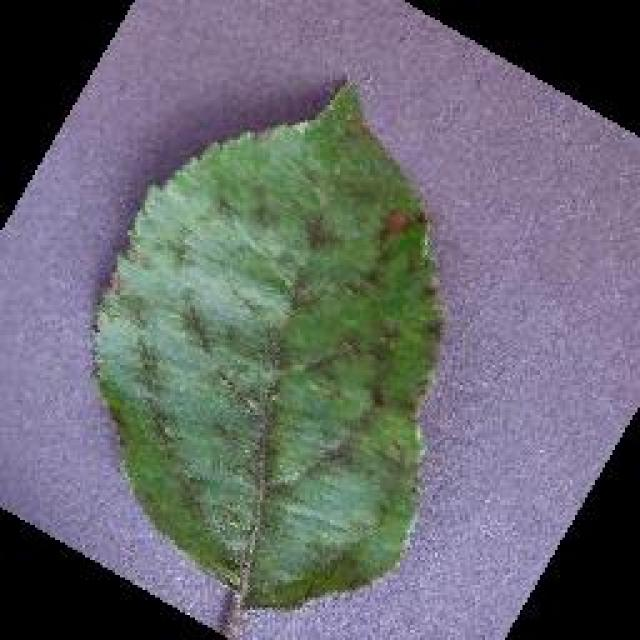apple scab disease: (87, 78, 445, 612)
